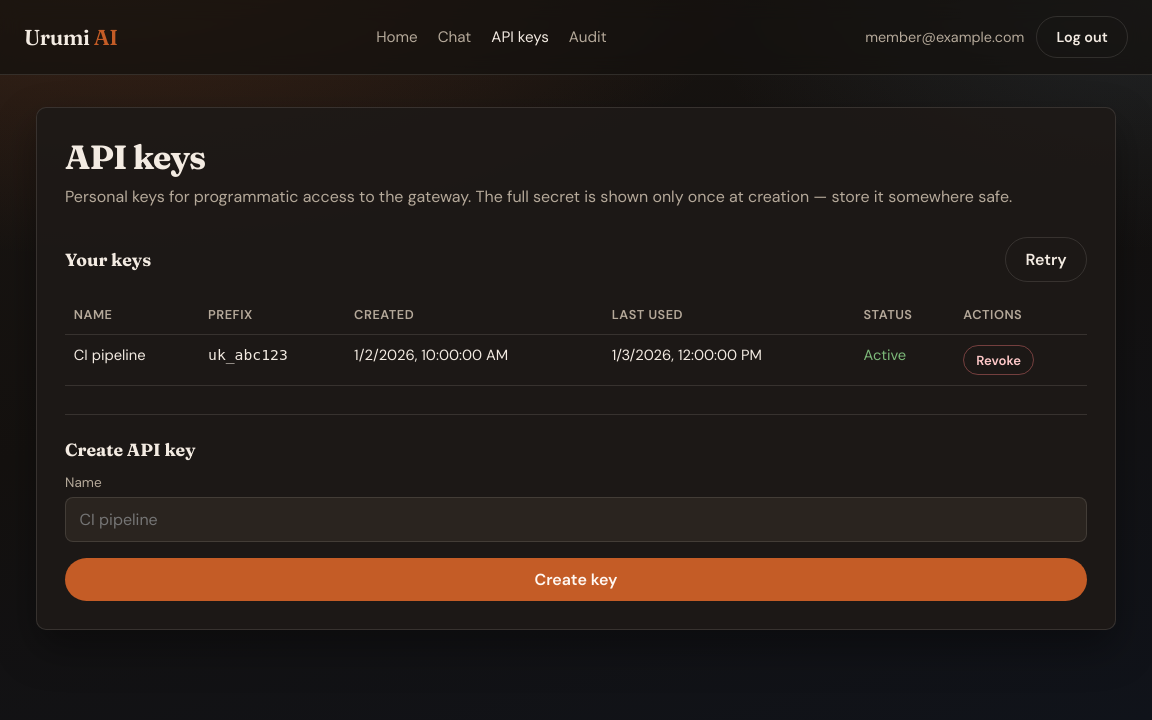
Scenario: personal API key management › revokes a key after confirmation and refreshes the list
Expected: the text "CI pipeline" is shown, [65,334,199,386]
Click the button "Revoke" at (999, 360), box [963,345,1034,375]
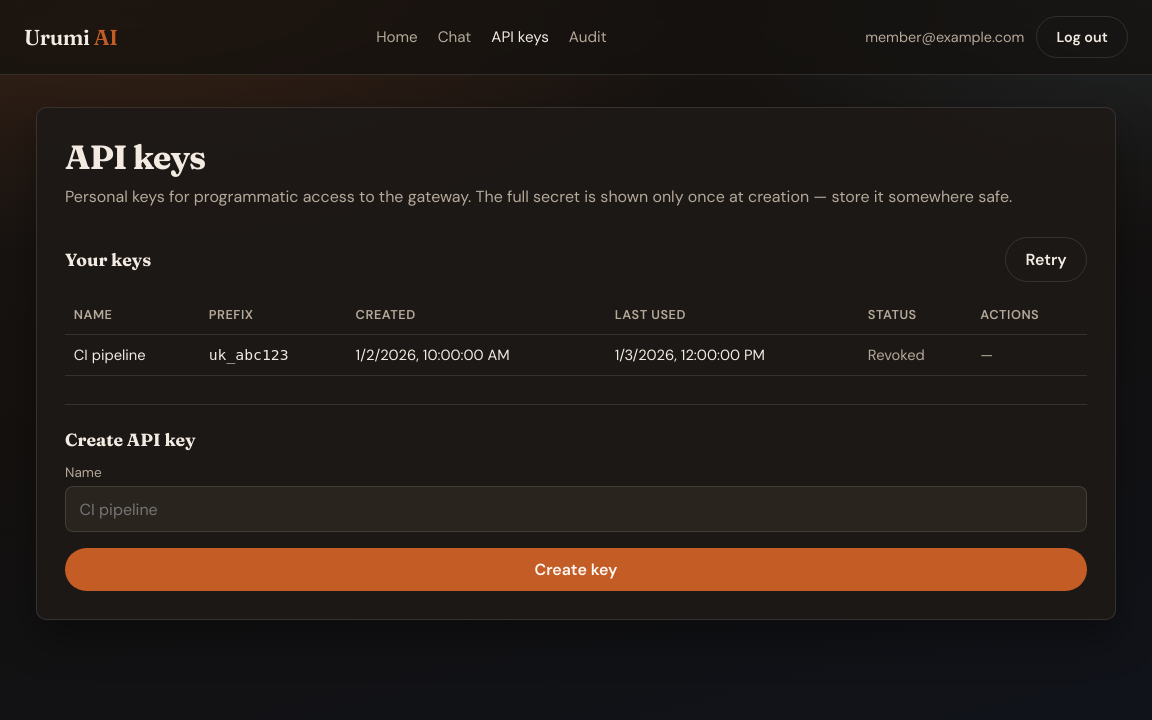
Now the text "Revoked" is shown, box [868,345,925,365]
